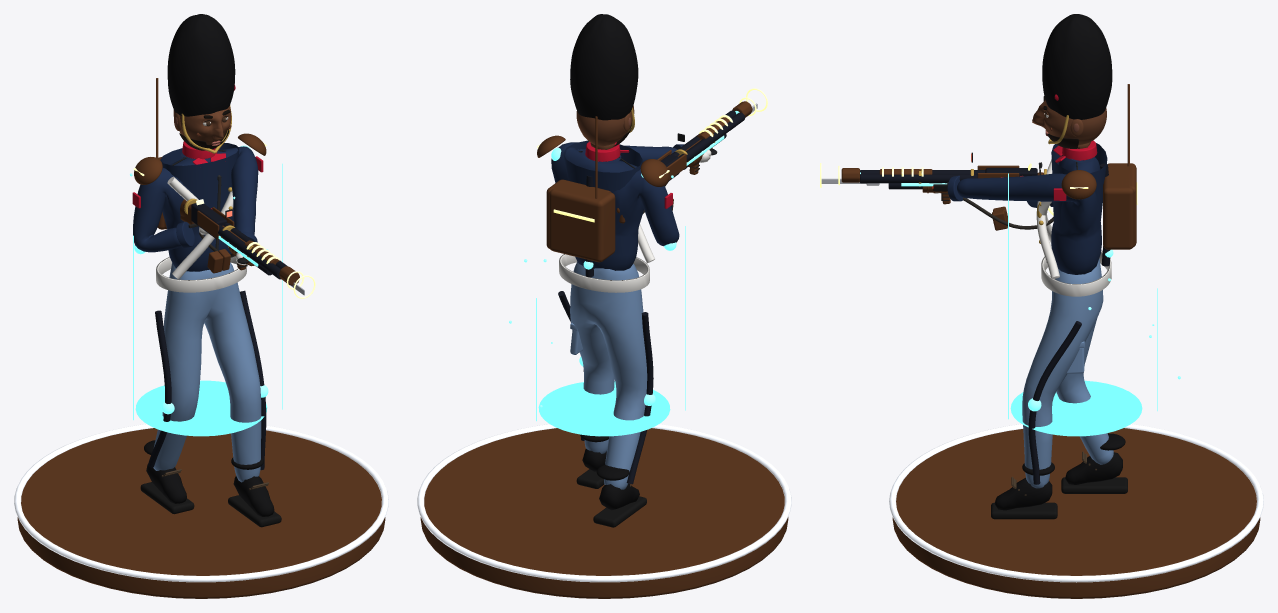
Rendered from hagl_kbh.glb.
3 renders of one model, left to right at view 1: azimuth 30°, elevation 25°; view 2: azimuth 150°, elevation 25°; view 3: azimuth 270°, elevation 25°, orthographic.
Parts seen in each view (by area): view 1: fod_net, menneske_net, hoved_net, op4.002_net, op1.001_net, op4.001_net, vaaben_net, op3.001_net, op3_net, op4_net; view 2: fod_net, menneske_net, hoved_net, op4.001_net, op4.002_net, op1.001_net, op3.001_net, vaaben_net, ned4_net, op3_net, op4_net; view 3: fod_net, menneske_net, hoved_net, op4.002_net, ned4_net, op4.001_net, op1.001_net, vaaben_net, op3.001_net, op3_net.
Boxes of the visible parts, left/top/right/bottom form: fod_net: left=14, top=424, right=388, bottom=598; menneske_net: left=132, top=141, right=281, bottom=527; hoved_net: left=167, top=14, right=235, bottom=153; op4.002_net: left=130, top=163, right=282, bottom=436; op1.001_net: left=156, top=176, right=246, bottom=292; op4.001_net: left=134, top=145, right=268, bottom=470; vaaben_net: left=180, top=199, right=287, bottom=278; op3.001_net: left=133, top=78, right=266, bottom=184; op3_net: left=196, top=199, right=299, bottom=285; op4_net: left=207, top=235, right=315, bottom=298; fod_net: left=417, top=424, right=791, bottom=598; menneske_net: left=551, top=140, right=717, bottom=527; hoved_net: left=570, top=14, right=638, bottom=146; op4.001_net: left=549, top=147, right=676, bottom=484; op4.002_net: left=509, top=175, right=685, bottom=436; op1.001_net: left=559, top=224, right=654, bottom=292; op3.001_net: left=537, top=116, right=669, bottom=198; vaaben_net: left=616, top=110, right=745, bottom=223; ned4_net: left=546, top=179, right=610, bottom=248; op3_net: left=657, top=101, right=752, bottom=180; op4_net: left=672, top=88, right=767, bottom=210; fod_net: left=889, top=424, right=1263, bottom=598; menneske_net: left=933, top=140, right=1127, bottom=519; hoved_net: left=1032, top=14, right=1112, bottom=148; op4.002_net: left=1008, top=173, right=1180, bottom=436; ned4_net: left=1103, top=165, right=1134, bottom=249; op4.001_net: left=1028, top=163, right=1137, bottom=484; op1.001_net: left=1036, top=159, right=1111, bottom=296; vaaben_net: left=860, top=168, right=1043, bottom=193; op3.001_net: left=1061, top=84, right=1129, bottom=199; op3_net: left=841, top=163, right=1031, bottom=182.
Size of the model in its own units: 1.94 by 2.89 by 2.29.
